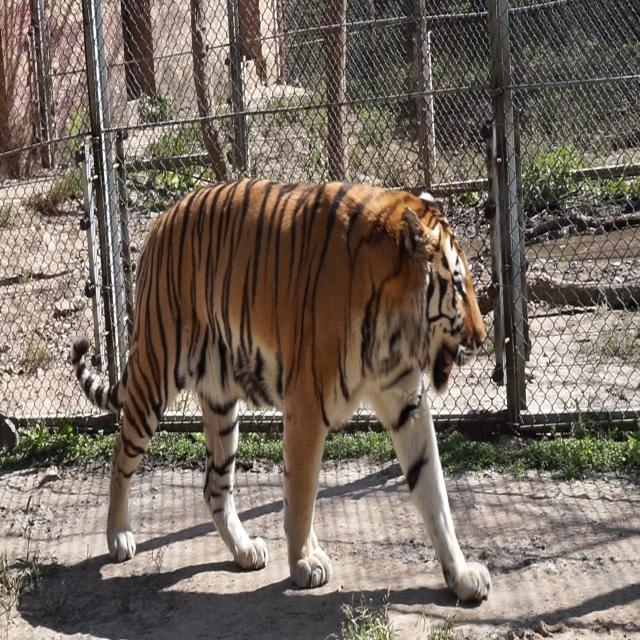Tiger: (53, 92, 500, 640)
